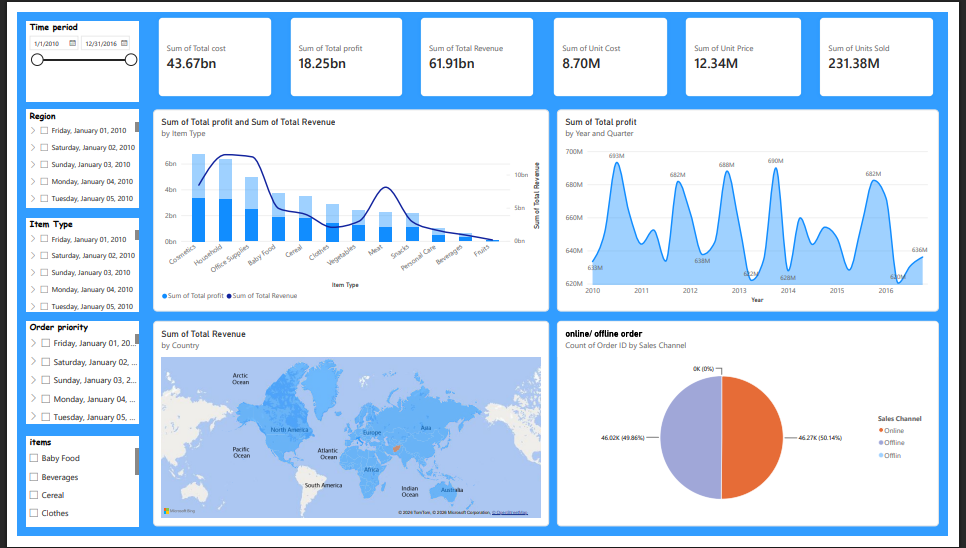

This screenshot's page, from the dashboard's own definition file:
{"tool":"powerbi","page":{"name":"Page 1","canvas":[1920,1080],"ordinal":0},"visuals":[{"type":"slicer","fields":{"Values":["Part 01 xlsx - Copy of Random Sales Records - Power BI.Order Date"]},"box":[17.3,17.3,232.5,165.7],"z":0},{"type":"slicer","fields":{"Values":["Part 01 xlsx - Copy of Random Sales Records - Power BI.Order Date","Part 01 xlsx - Copy of Random Sales Records - Power BI.Region"]},"box":[17.3,200.4,232.5,202.8],"z":1},{"type":"slicer","fields":{"Values":["Part 01 xlsx - Copy of Random Sales Records - Power BI.Order Date","Part 01 xlsx - Copy of Random Sales Records - Power BI.Item Type"]},"box":[17.3,423,232.5,192.9],"z":2},{"type":"slicer","fields":{"Values":["Part 01 xlsx - Copy of Random Sales Records - Power BI.Order Date","Part 01 xlsx - Copy of Random Sales Records - Power BI.Order Priority"]},"box":[17.3,635.7,232.5,212.7],"z":3},{"type":"slicer","fields":{"Values":["Part 01 xlsx - Copy of Random Sales Records - Power BI.Item Type"]},"box":[17.3,873.2,232.5,185.5],"z":4},{"type":"cardVisual","fields":{"Data":["Sum(Part 01 xlsx - Copy of Random Sales Records - Power BI.Total cost)"]},"box":[279.5,0,254.8,183],"z":5},{"type":"cardVisual","fields":{"Data":["Sum(Part 01 xlsx - Copy of Random Sales Records - Power BI.Total profit)"]},"box":[551.6,0,252.3,183],"z":6},{"type":"cardVisual","fields":{"Data":["Sum(Part 01 xlsx - Copy of Random Sales Records - Power BI.Total Revenue)"]},"box":[821.2,0,254.8,183],"z":7},{"type":"cardVisual","fields":{"Data":["Sum(Part 01 xlsx - Copy of Random Sales Records - Power BI.Unit Cost)"]},"box":[1095.8,0,254.8,183],"z":8},{"type":"cardVisual","fields":{"Data":["Sum(Part 01 xlsx - Copy of Random Sales Records - Power BI.Unit Price)"]},"box":[1367.9,0,259.7,183],"z":9},{"type":"cardVisual","fields":{"Data":["Sum(Part 01 xlsx - Copy of Random Sales Records - Power BI.Units Sold)"]},"box":[1645,0,254.8,183],"z":10},{"type":"lineStackedColumnComboChart","fields":{"Category":["Part 01 xlsx - Copy of Random Sales Records - Power BI.Item Type"],"Y":["Sum(Part 01 xlsx - Copy of Random Sales Records - Power BI.Total profit)"],"Y2":["Sum(Part 01 xlsx - Copy of Random Sales Records - Power BI.Total Revenue)"]},"box":[279.5,200.4,816.3,415.6],"z":11},{"type":"areaChart","fields":{"Category":["Part 01 xlsx - Copy of Random Sales Records - Power BI.Order Date.Variation.Date Hierarchy.Year","Part 01 xlsx - Copy of Random Sales Records - Power BI.Order Date.Variation.Date Hierarchy.Quarter","Part 01 xlsx - Copy of Random Sales Records - Power BI.Order Date.Variation.Date Hierarchy.Month","Part 01 xlsx - Copy of Random Sales Records - Power BI.Order Date.Variation.Date Hierarchy.Day"],"Y":["Sum(Part 01 xlsx - Copy of Random Sales Records - Power BI.Total profit)"]},"box":[1113.1,200.4,786.6,415.6],"z":12},{"type":"filledMap","fields":{"Category":["Part 01 xlsx - Copy of Random Sales Records - Power BI.Country"]},"box":[279.5,635.7,816.3,423],"z":13},{"type":"pieChart","title":"online/ offline order","fields":{"Category":["Part 01 xlsx - Copy of Random Sales Records - Power BI.Sales Channel"],"Y":["CountNonNull(Part 01 xlsx - Copy of Random Sales Records - Power BI.Order ID)"]},"box":[1113.1,635.7,786.6,423],"z":14}]}

Visuals, with their boxes in screenshot pixels (x1, y1, x2, y2), scaled from the page's 1920x1080 canvas onto the 966x548 screenshot:
slicer - Part 01 xlsx - Copy of Random Sales Records - Power BI.Order Date: l=9, t=9, r=126, b=93
slicer - Part 01 xlsx - Copy of Random Sales Records - Power BI.Order Date x Part 01 xlsx - Copy of Random Sales Records - Power BI.Region: l=9, t=102, r=126, b=205
slicer - Part 01 xlsx - Copy of Random Sales Records - Power BI.Order Date x Part 01 xlsx - Copy of Random Sales Records - Power BI.Item Type: l=9, t=215, r=126, b=313
slicer - Part 01 xlsx - Copy of Random Sales Records - Power BI.Order Date x Part 01 xlsx - Copy of Random Sales Records - Power BI.Order Priority: l=9, t=323, r=126, b=430
slicer - Part 01 xlsx - Copy of Random Sales Records - Power BI.Item Type: l=9, t=443, r=126, b=537
cardVisual - Sum(Part 01 xlsx - Copy of Random Sales Records - Power BI.Total cost): l=141, t=0, r=269, b=93
cardVisual - Sum(Part 01 xlsx - Copy of Random Sales Records - Power BI.Total profit): l=278, t=0, r=404, b=93
cardVisual - Sum(Part 01 xlsx - Copy of Random Sales Records - Power BI.Total Revenue): l=413, t=0, r=541, b=93
cardVisual - Sum(Part 01 xlsx - Copy of Random Sales Records - Power BI.Unit Cost): l=551, t=0, r=680, b=93
cardVisual - Sum(Part 01 xlsx - Copy of Random Sales Records - Power BI.Unit Price): l=688, t=0, r=819, b=93
cardVisual - Sum(Part 01 xlsx - Copy of Random Sales Records - Power BI.Units Sold): l=828, t=0, r=956, b=93
lineStackedColumnComboChart - Part 01 xlsx - Copy of Random Sales Records - Power BI.Item Type x Sum(Part 01 xlsx - Copy of Random Sales Records - Power BI.Total profit): l=141, t=102, r=551, b=313
areaChart - Part 01 xlsx - Copy of Random Sales Records - Power BI.Order Date.Variation.Date Hierarchy.Year x Part 01 xlsx - Copy of Random Sales Records - Power BI.Order Date.Variation.Date Hierarchy.Quarter: l=560, t=102, r=956, b=313
filledMap - Part 01 xlsx - Copy of Random Sales Records - Power BI.Country: l=141, t=323, r=551, b=537
"online/ offline order" pieChart: l=560, t=323, r=956, b=537
